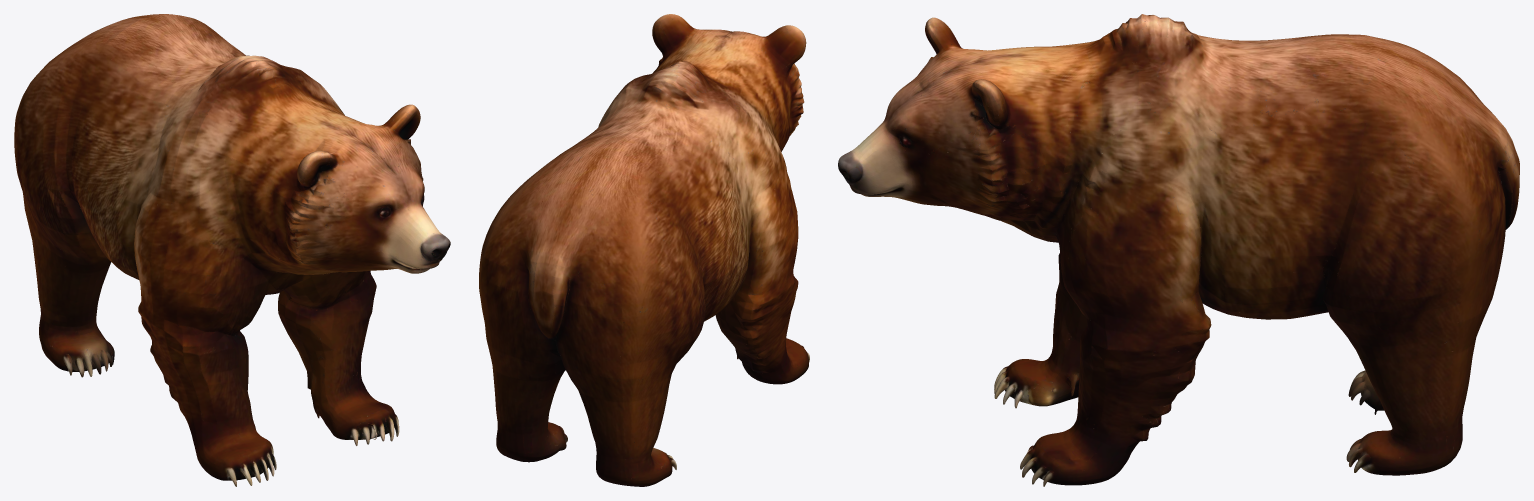
File: Beer.fbx
3 views of the same model, side by side, from view 1: azimuth 30°, elevation 25°; view 2: azimuth 150°, elevation 25°; view 3: azimuth 270°, elevation 25° (orthographic). The views are drawn at different scales.
Visible parts, largest first — view 1: world; view 2: world; view 3: world.
Boxes of the visible parts, <box> form: world: <box>14,14,450,486</box>; world: <box>479,14,809,486</box>; world: <box>838,14,1519,486</box>.
Size of the model in its own units: 87.18 by 136 by 200.
Materials: 1 (1 with a texture image).
